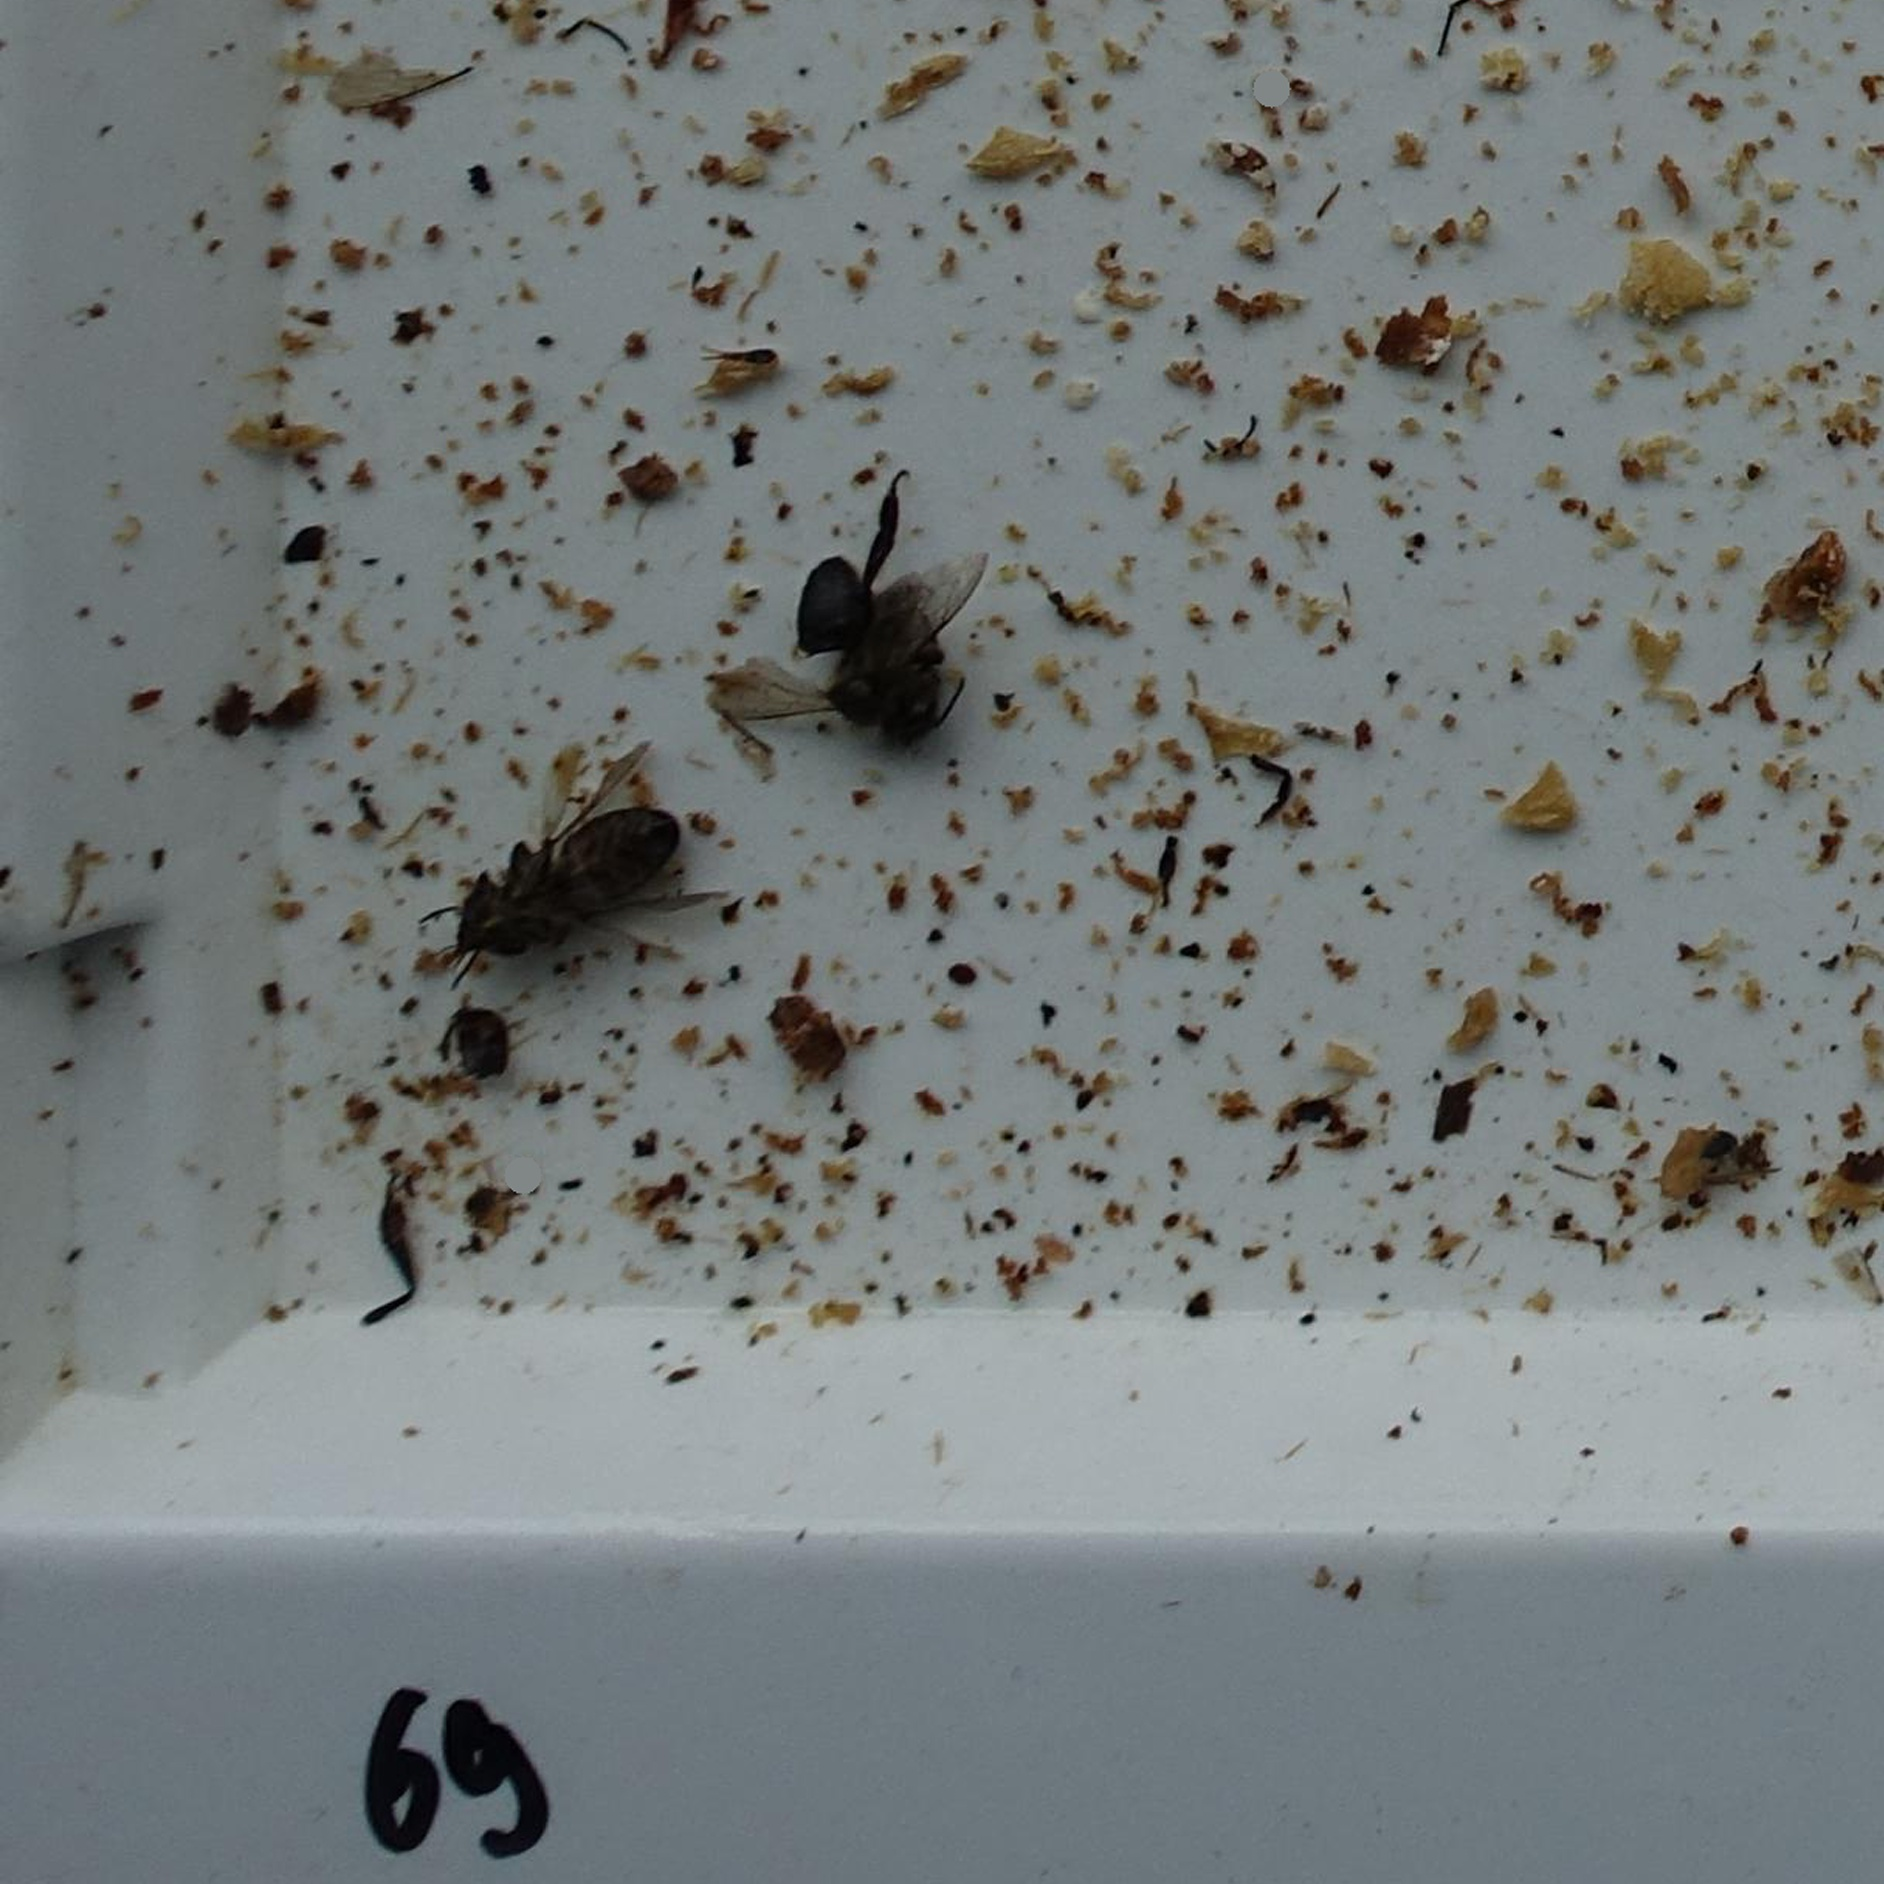Varroa: (952, 961, 975, 985)
